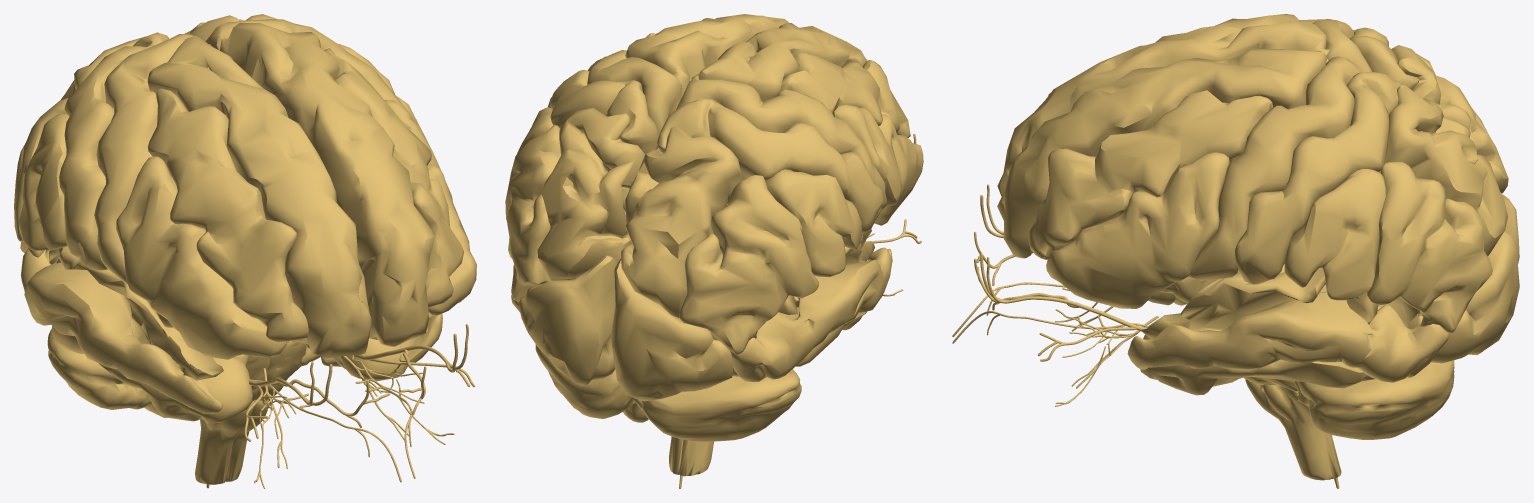
The model's file is nervous.glb.
3 renders of one model, left to right at view 1: azimuth 30°, elevation 25°; view 2: azimuth 150°, elevation 25°; view 3: azimuth 270°, elevation 25°, orthographic. The views are drawn at different scales.
Parts seen in each view (by area): view 1: neural-FMA72654, neural-FMA72653, neural-FMA72655, neural-FMA72657, neural-FMA72685, neural-FMA72661, neural-FMA72665, neural-FMA72656, neural-FMA72667, neural-FMA260791, neural-FMA72687, neural-FMA67944 (+14 smaller); view 2: neural-FMA72669, neural-FMA72671, neural-FMA72672, neural-FMA67944, neural-FMA72975, neural-FMA72665, neural-FMA72976, neural-FMA72685, neural-FMA72653, neural-FMA72667, neural-FMA72670, neural-FMA72661 (+9 smaller); view 3: neural-FMA72654, neural-FMA72656, neural-FMA72686, neural-FMA72658, neural-FMA72670, neural-FMA72666, neural-FMA72662, neural-FMA72653, neural-FMA72668, neural-FMA72672, neural-FMA67944, neural-FMA260794 (+9 smaller).
Part boxes in pixels (x1=…): neural-FMA72654: x1=219, y1=23, x2=435, y2=346; neural-FMA72653: x1=147, y1=35, x2=371, y2=358; neural-FMA72655: x1=147, y1=88, x2=308, y2=342; neural-FMA72657: x1=116, y1=156, x2=286, y2=359; neural-FMA72685: x1=20, y1=249, x2=222, y2=413; neural-FMA72661: x1=94, y1=34, x2=193, y2=284; neural-FMA72665: x1=59, y1=32, x2=169, y2=270; neural-FMA72656: x1=324, y1=48, x2=463, y2=307; neural-FMA72667: x1=19, y1=114, x2=91, y2=250; neural-FMA260791: x1=49, y1=155, x2=308, y2=380; neural-FMA72687: x1=51, y1=326, x2=252, y2=423; neural-FMA67944: x1=47, y1=329, x2=320, y2=417; neural-FMA72669: x1=679, y1=175, x2=818, y2=354; neural-FMA72671: x1=621, y1=125, x2=743, y2=317; neural-FMA72672: x1=537, y1=108, x2=644, y2=280; neural-FMA67944: x1=535, y1=344, x2=801, y2=441; neural-FMA72975: x1=610, y1=259, x2=733, y2=401; neural-FMA72665: x1=657, y1=97, x2=883, y2=233; neural-FMA72976: x1=518, y1=255, x2=617, y2=385; neural-FMA72685: x1=730, y1=247, x2=892, y2=381; neural-FMA72653: x1=691, y1=23, x2=867, y2=101; neural-FMA72667: x1=765, y1=169, x2=862, y2=276; neural-FMA72670: x1=505, y1=125, x2=560, y2=301; neural-FMA72661: x1=676, y1=79, x2=886, y2=210; neural-FMA72654: x1=997, y1=49, x2=1328, y2=258; neural-FMA72656: x1=1028, y1=90, x2=1272, y2=259; neural-FMA72686: x1=1127, y1=291, x2=1449, y2=382; neural-FMA72658: x1=1046, y1=152, x2=1229, y2=308; neural-FMA72670: x1=1367, y1=161, x2=1492, y2=332; neural-FMA72666: x1=1235, y1=72, x2=1400, y2=284; neural-FMA72662: x1=1189, y1=56, x2=1360, y2=280; neural-FMA72653: x1=997, y1=14, x2=1329, y2=196; neural-FMA72668: x1=1284, y1=169, x2=1386, y2=300; neural-FMA72672: x1=1379, y1=84, x2=1507, y2=255; neural-FMA67944: x1=1295, y1=360, x2=1454, y2=439; neural-FMA260794: x1=1120, y1=119, x2=1422, y2=338.
Size of the model in its own units: 0.1464 by 0.1814 by 0.2065.
